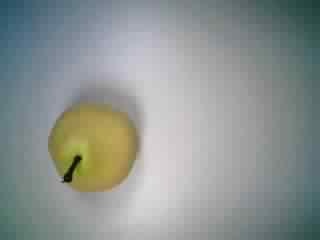pear: (37, 95, 146, 197)
